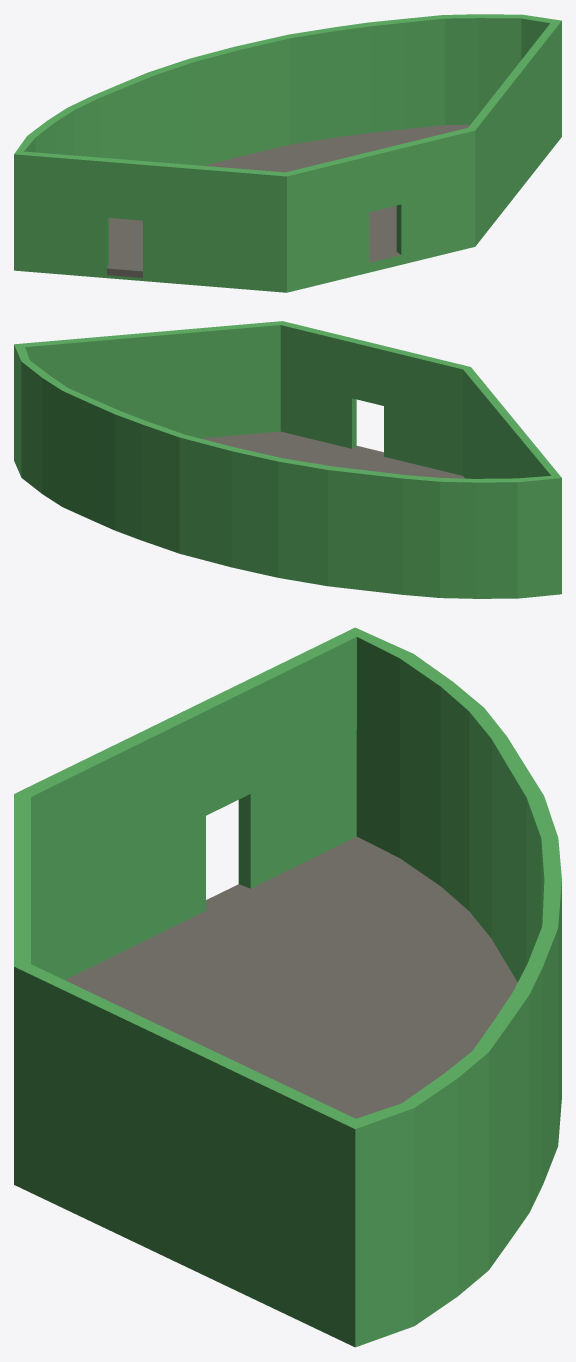
The picture shows the model from 3 angles, top to bottom: view 1: azimuth 30°, elevation 25°; view 2: azimuth 150°, elevation 25°; view 3: azimuth 270°, elevation 25°; orthographic projection. The views are drawn at different scales.
Parts seen in each view (by area): view 1: Sala 1, Sala 1.001; view 2: Sala 1, Sala 1.001; view 3: Sala 1, Sala 1.001.
Part boxes in pixels (x1,y1,x2,y2): Sala 1: (14,14,561,292); Sala 1.001: (107,124,469,277); Sala 1: (14,321,561,598); Sala 1.001: (200,431,464,478); Sala 1: (14,627,561,1347); Sala 1.001: (65,836,517,1118).
Bounding box in the file's own units: 11941 × 2422 × 5511.
